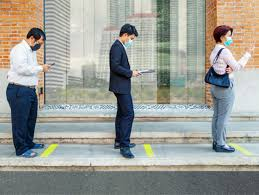Caution: (6, 23, 140, 158), (107, 24, 240, 157)
